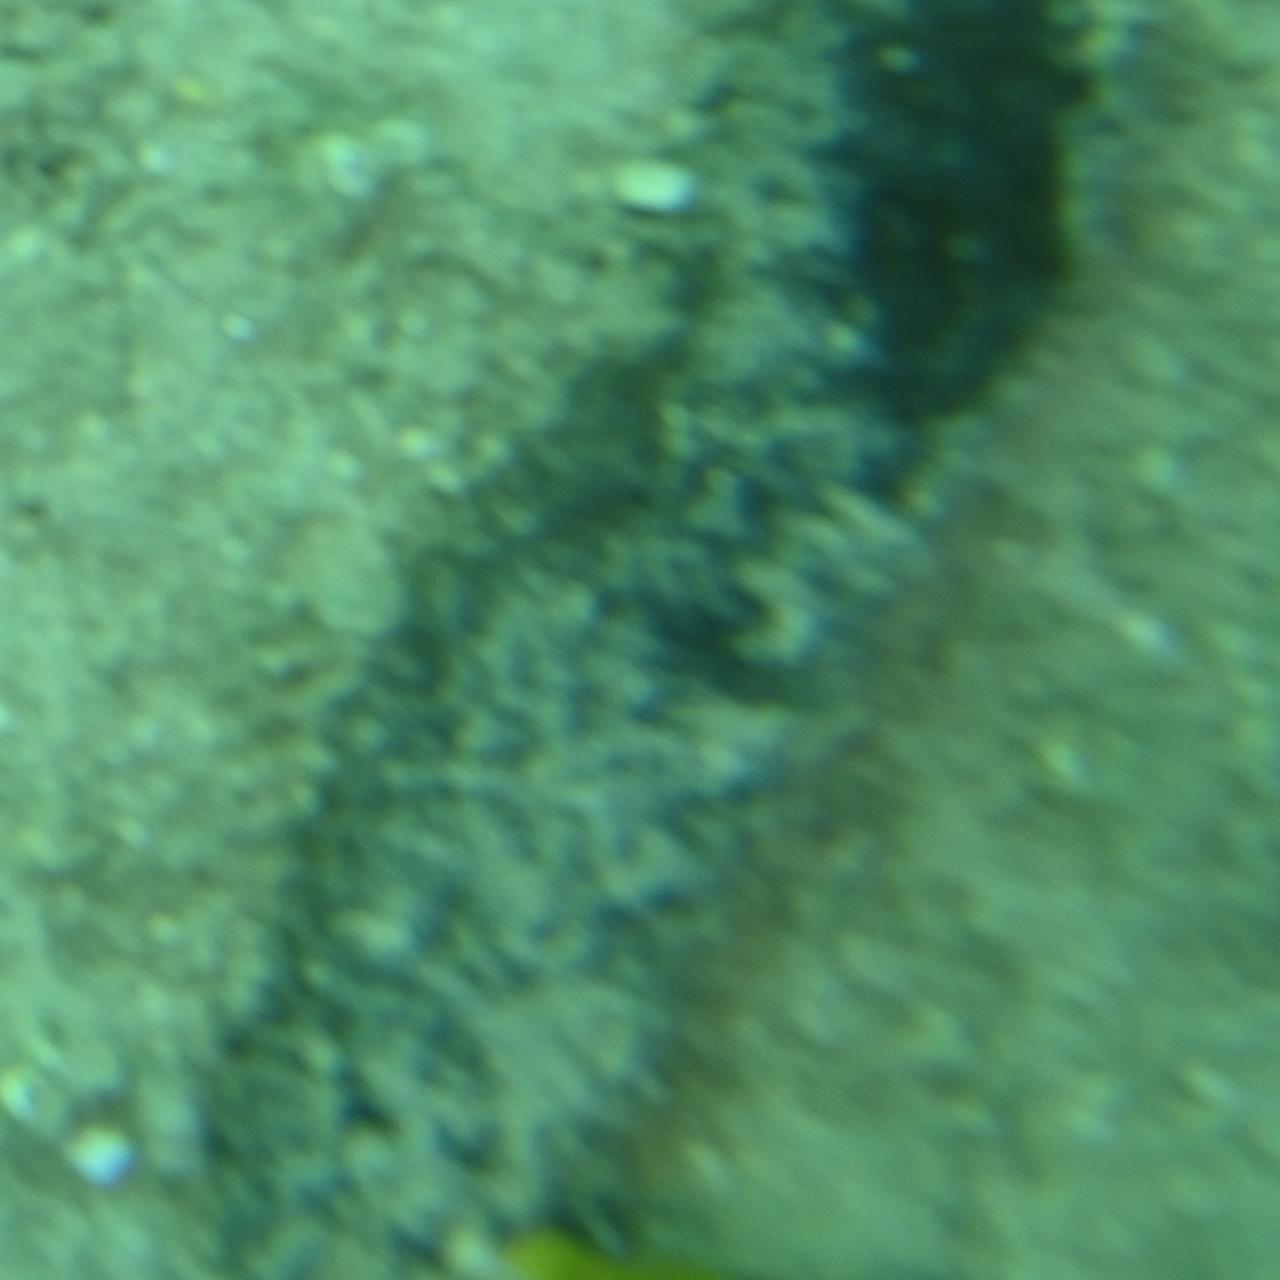Holothuria tubulosa: (182, 0, 1098, 1280)
